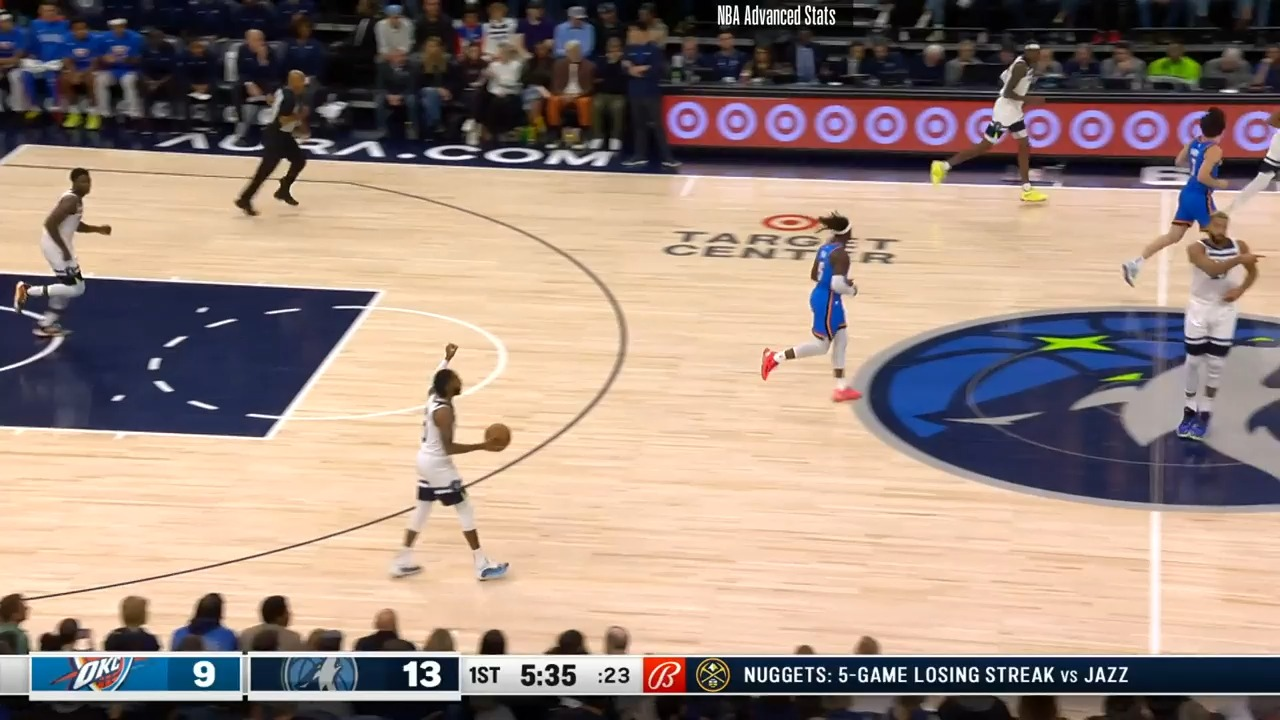player: (1157, 207, 1273, 450), (395, 359, 511, 585), (1120, 107, 1256, 291), (764, 212, 878, 411), (936, 41, 1052, 206), (7, 166, 109, 346), (1228, 99, 1280, 244)
referee: (233, 66, 332, 224)
